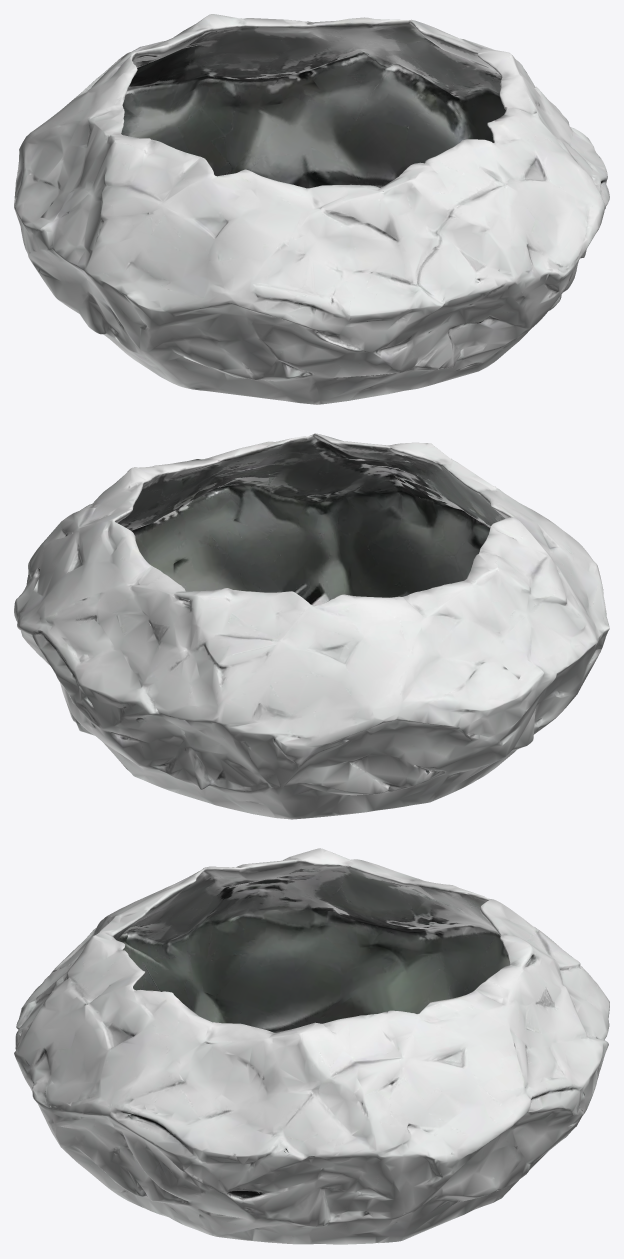
File: apex-gem.glb
3 views of the same model, one above another, from view 1: azimuth 30°, elevation 25°; view 2: azimuth 150°, elevation 25°; view 3: azimuth 270°, elevation 25° (orthographic). The views are drawn at different scales.
Bounding box in the file's own units: 2 × 0.8153 × 2.
Materials: 1 (1 with a texture image).
